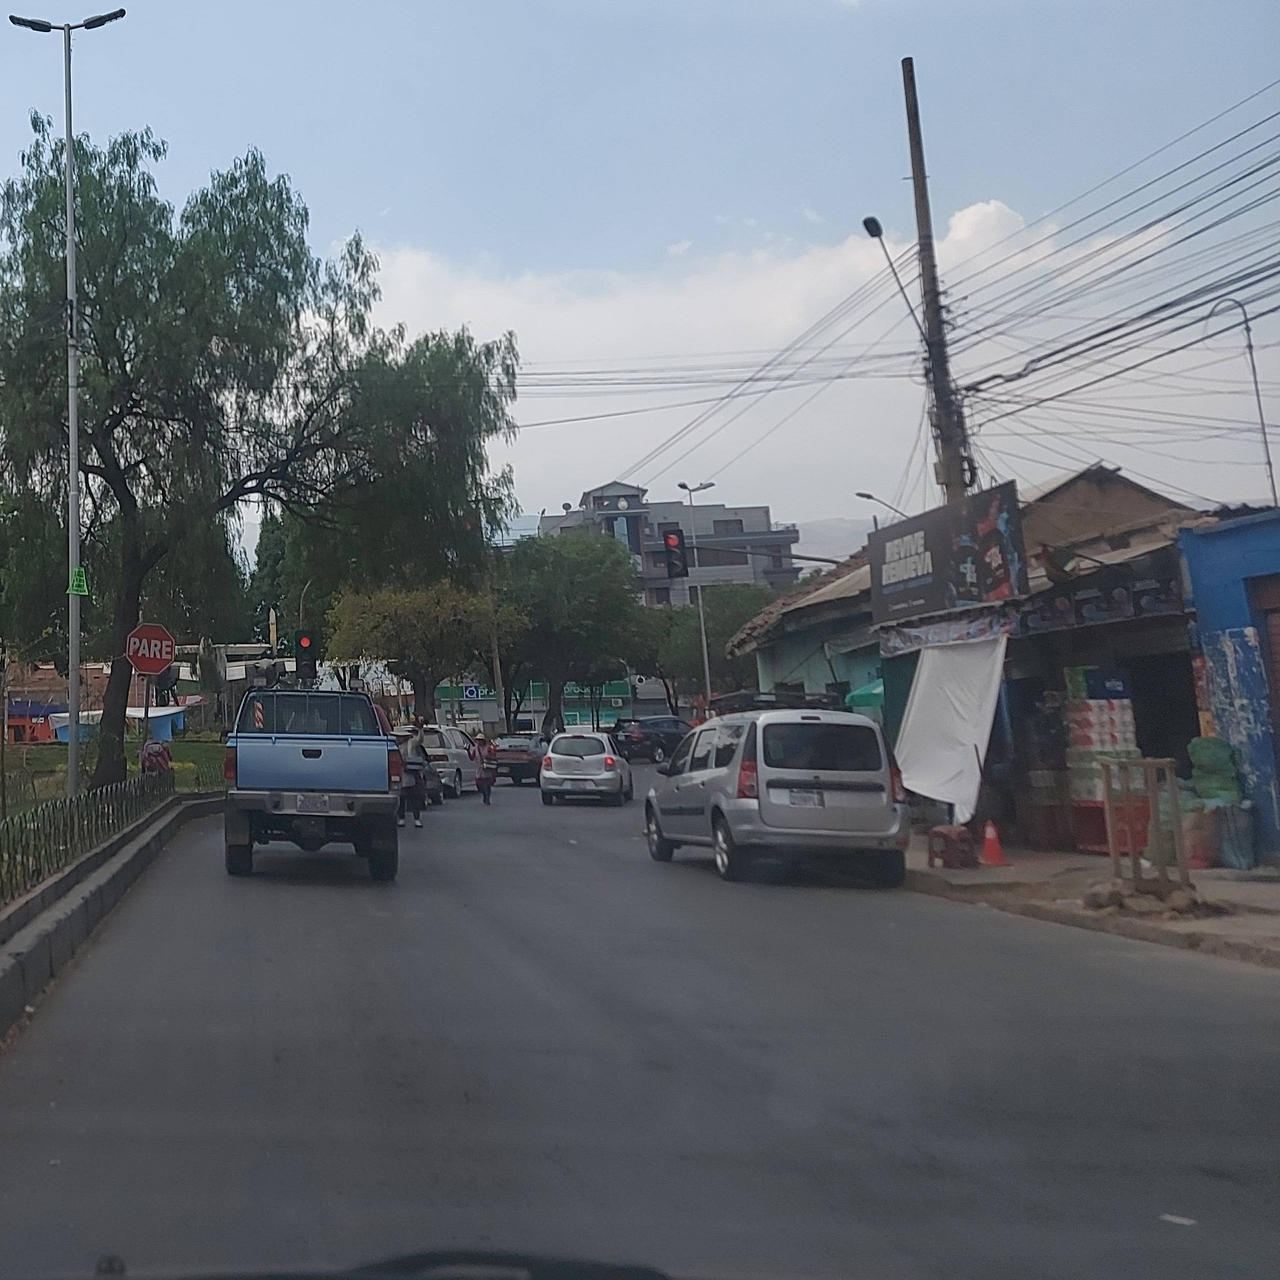pare: (125, 622, 176, 676)
